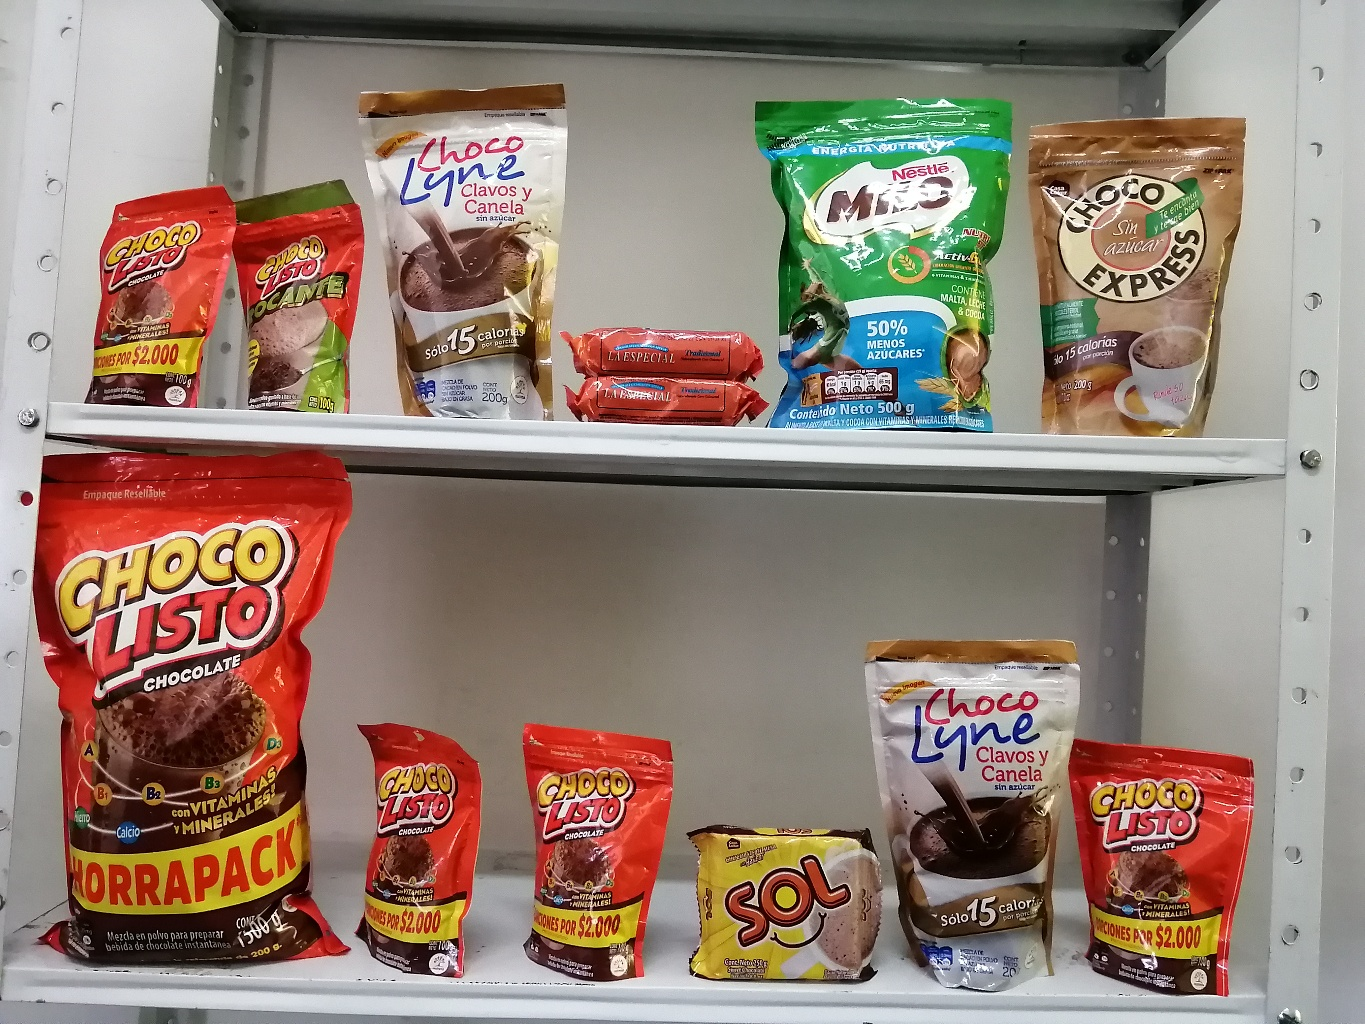COL0170102DYP10000: (227, 177, 366, 414)
COL0170103DYP1,500: (24, 450, 352, 962)
COL0170205DYP50000: (748, 95, 1021, 432)
